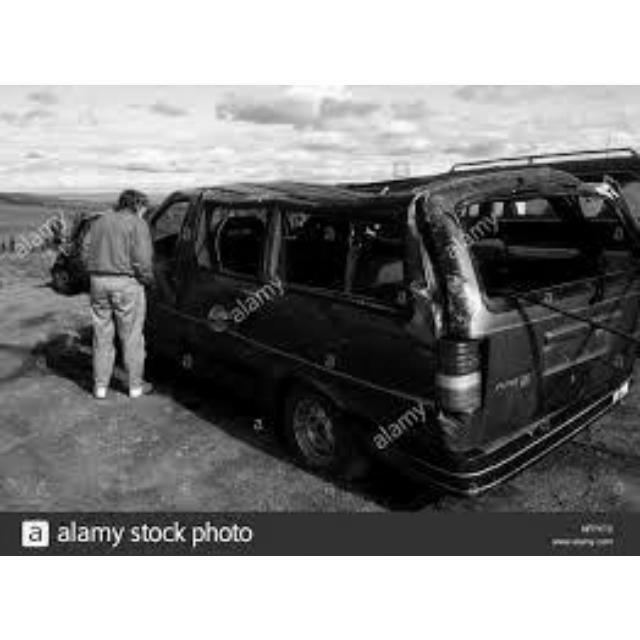Rear-windscreen-Damage: (457, 192, 640, 292)
boot-dent: (462, 286, 640, 376)
roof-dent: (202, 175, 520, 204)
